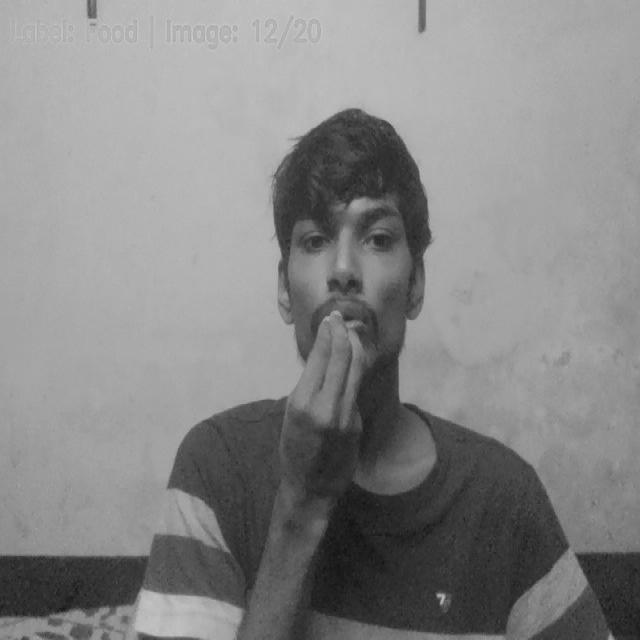Food: (276, 312, 376, 493)
